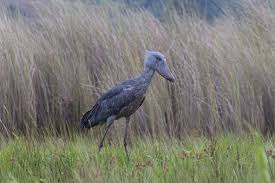Walking: (65, 41, 185, 171)
